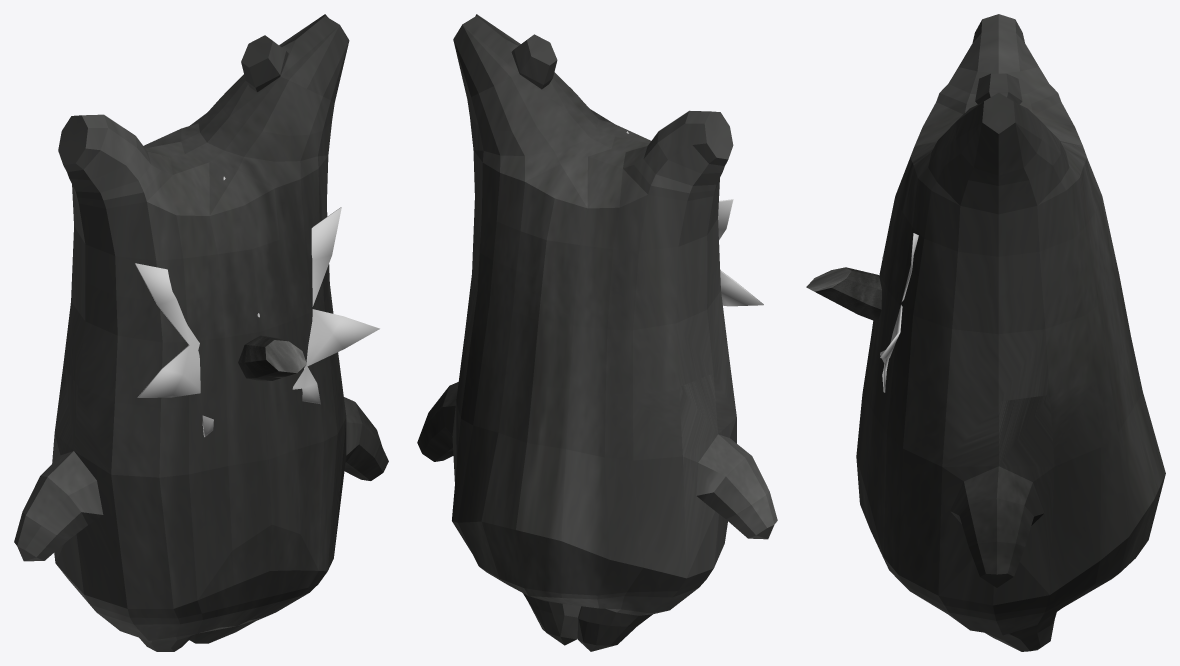
File: frame_0011.obj
3 renders of one model, left to right at view 1: azimuth 30°, elevation 25°; view 2: azimuth 150°, elevation 25°; view 3: azimuth 270°, elevation 25°, orthographic. The views are drawn at different scales.
Parts seen in each view (by area): view 1: korok, leaf, nose; view 2: korok, leaf; view 3: korok, nose, leaf.
Boxes of the visible parts, x1,y1,x2,y2 form: korok: (14, 14, 388, 651); leaf: (135, 176, 379, 437); nose: (238, 335, 306, 381); korok: (417, 14, 777, 651); leaf: (626, 131, 763, 306); korok: (856, 14, 1165, 651); nose: (806, 267, 881, 322); leaf: (880, 233, 918, 392).
Size of the model in its own units: 1.6 by 2.55 by 1.36.
